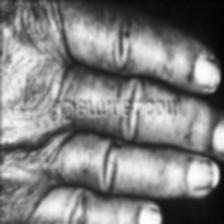Unclassified: (183, 50, 219, 87), (184, 156, 218, 192), (114, 20, 135, 42)
